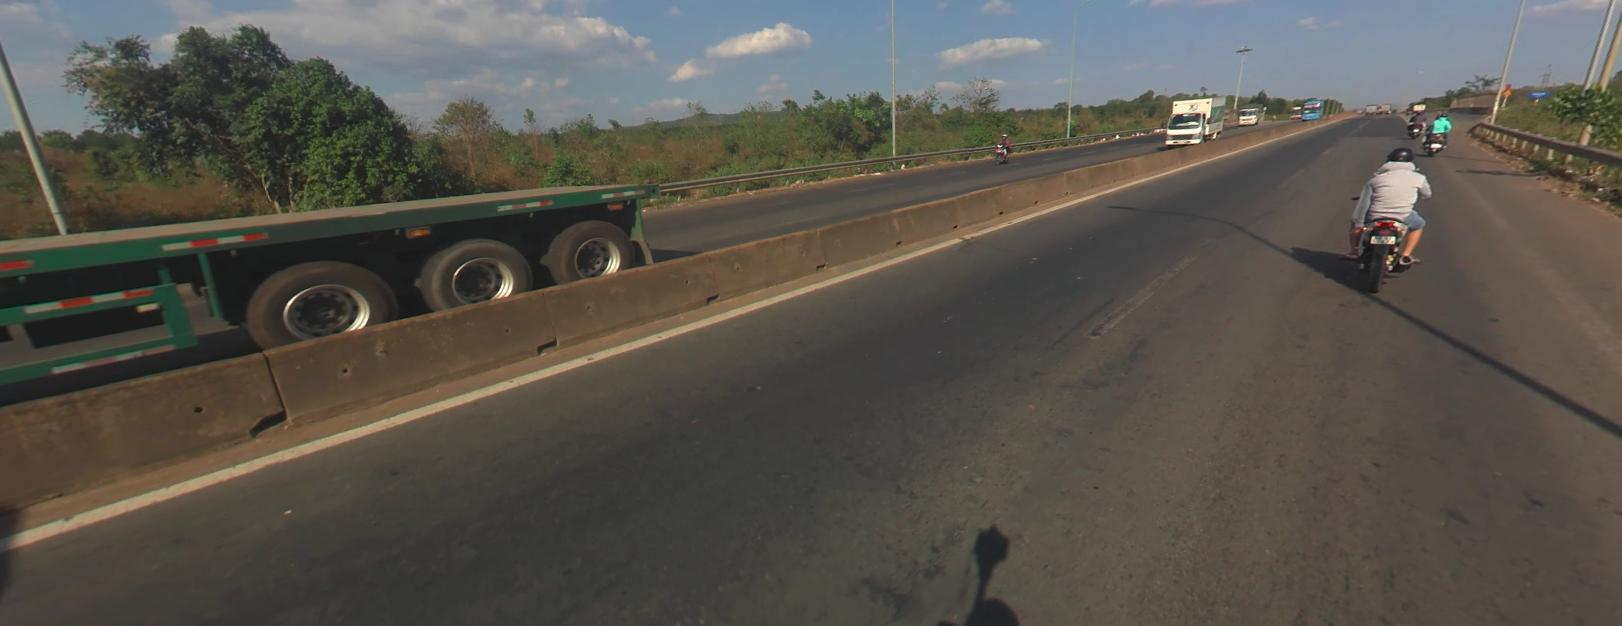Nguy hiem: (1502, 87, 1511, 94)
